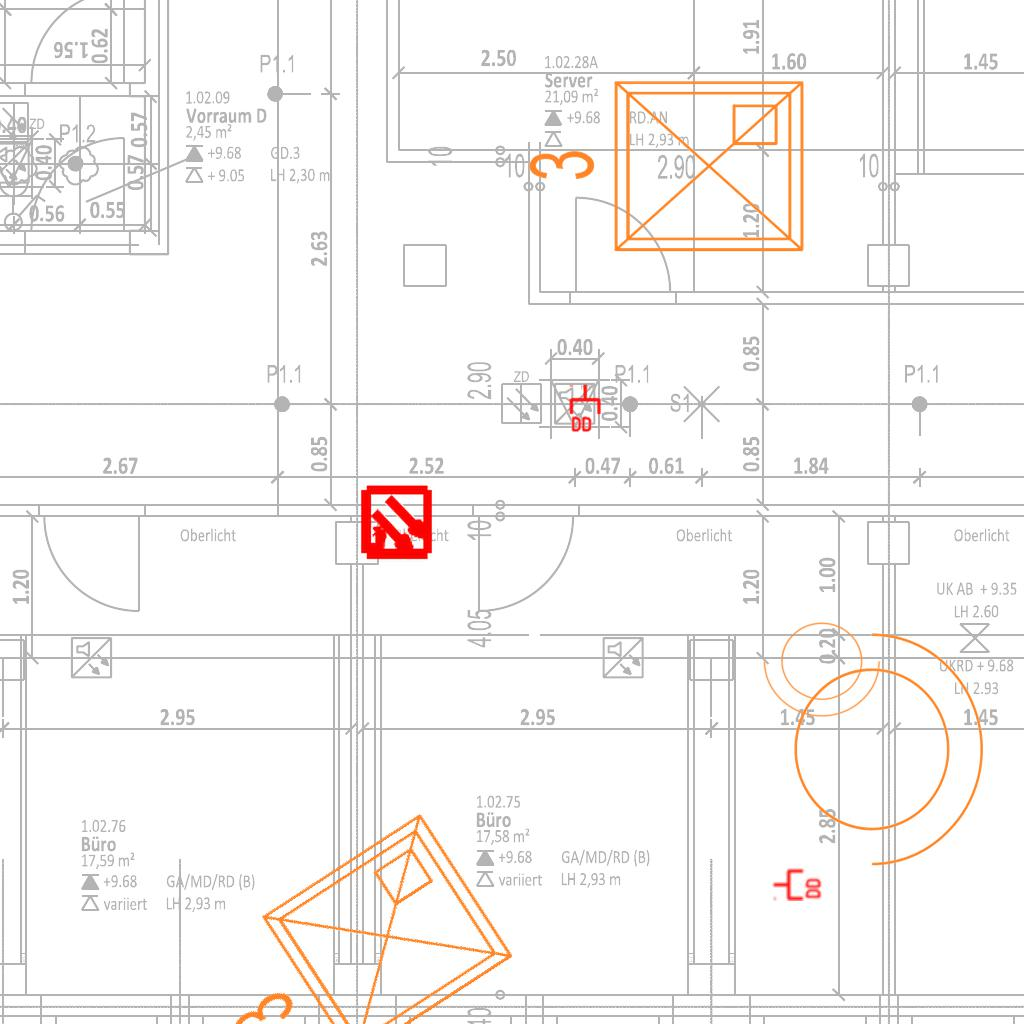Datenanschluss_zweifach: (772, 867, 823, 901), (569, 383, 603, 434)
Einbaudownlights_LED_Konferenzraeume: (172, 793, 538, 1024), (518, 66, 818, 274)
OT_Multisensormelder_(Kombination_RMO_WMD): (340, 468, 453, 581)
Scheinwerfer_fuer_Alarmbeleuchtung: (769, 611, 994, 875), (759, 610, 891, 722)
